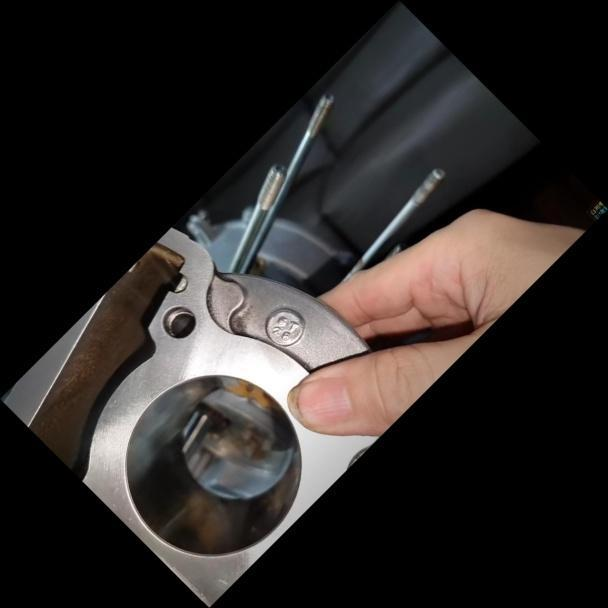hole: (152, 296, 202, 346)
